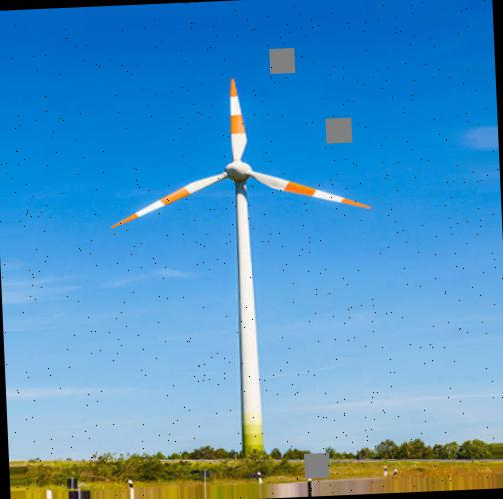wind turbine: (112, 77, 372, 453)
